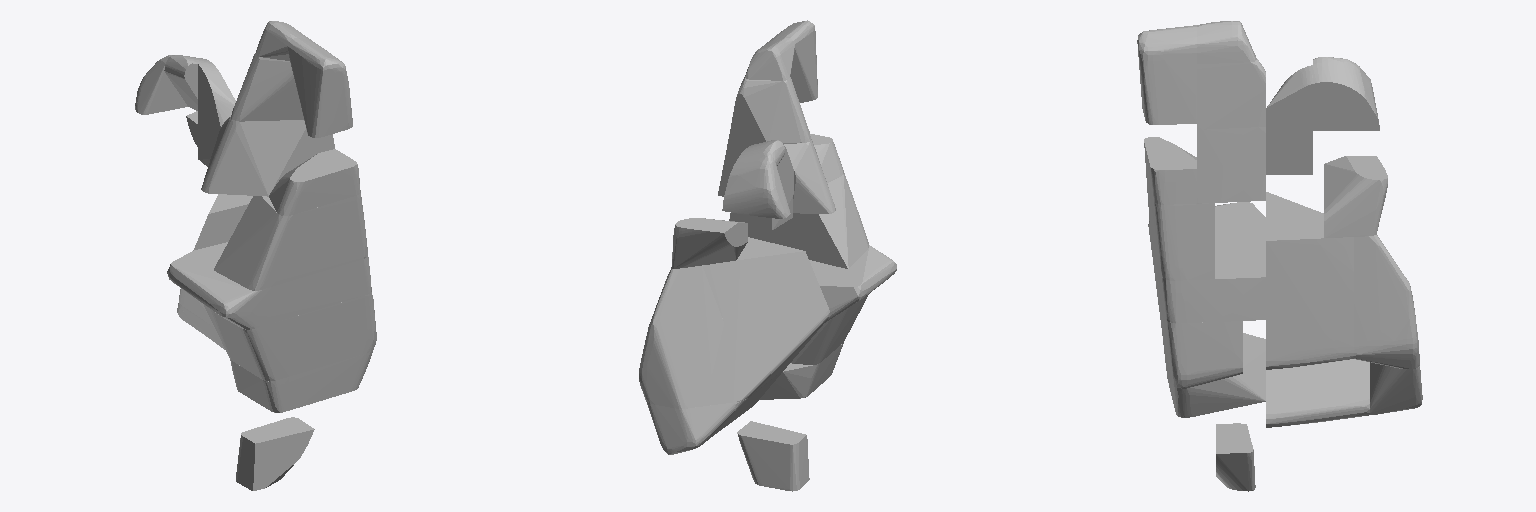
--- What the picture shows (computed from the rendered views, not written in the file) ---
3 views of the same robot in one strip: view 1: azimuth 30°, elevation 25°; view 2: azimuth 150°, elevation 25°; view 3: azimuth 270°, elevation 25° (orthographic).
Model root with 32 links and 31 joints (31 fixed), rooted at link_coacd_convex_piece_0, posed every joint at zero.
Visible links, largest first — view 1: link_coacd_convex_piece_21, link_coacd_convex_piece_31, link_coacd_convex_piece_18, link_coacd_convex_piece_11, link_coacd_convex_piece_17, link_coacd_convex_piece_15, link_coacd_convex_piece_27, link_coacd_convex_piece_8, link_coacd_convex_piece_28, link_coacd_convex_piece_22, link_coacd_convex_piece_4, link_coacd_convex_piece_23 (+2 smaller); view 2: link_coacd_convex_piece_4, link_coacd_convex_piece_16, link_coacd_convex_piece_21, link_coacd_convex_piece_28, link_coacd_convex_piece_8, link_coacd_convex_piece_23, link_coacd_convex_piece_10, link_coacd_convex_piece_11, link_coacd_convex_piece_18, link_coacd_convex_piece_2, link_coacd_convex_piece_17, link_coacd_convex_piece_15 (+7 smaller); view 3: link_coacd_convex_piece_19, link_coacd_convex_piece_18, link_coacd_convex_piece_16, link_coacd_convex_piece_3, link_coacd_convex_piece_17, link_coacd_convex_piece_11, link_coacd_convex_piece_31, link_coacd_convex_piece_21, link_coacd_convex_piece_10, link_coacd_convex_piece_28, link_coacd_convex_piece_22, link_coacd_convex_piece_15 (+7 smaller).
Link boxes in pixels (x1,y1,x2,y2): link_coacd_convex_piece_21: (214, 193, 367, 290); link_coacd_convex_piece_31: (204, 292, 376, 381); link_coacd_convex_piece_18: (167, 242, 371, 329); link_coacd_convex_piece_11: (201, 117, 334, 196); link_coacd_convex_piece_17: (288, 38, 352, 137); link_coacd_convex_piece_15: (230, 351, 372, 412); link_coacd_convex_piece_27: (269, 149, 360, 215); link_coacd_convex_piece_8: (236, 417, 314, 490); link_coacd_convex_piece_28: (231, 53, 303, 121); link_coacd_convex_piece_22: (198, 64, 235, 166); link_coacd_convex_piece_4: (179, 194, 248, 327); link_coacd_convex_piece_23: (135, 55, 187, 114); link_coacd_convex_piece_4: (705, 241, 829, 405); link_coacd_convex_piece_16: (639, 266, 723, 408); link_coacd_convex_piece_21: (729, 173, 868, 268); link_coacd_convex_piece_28: (729, 77, 810, 143); link_coacd_convex_piece_8: (737, 421, 809, 491); link_coacd_convex_piece_23: (722, 153, 790, 218); link_coacd_convex_piece_10: (672, 218, 747, 268); link_coacd_convex_piece_11: (718, 135, 835, 213); link_coacd_convex_piece_18: (809, 245, 896, 322); link_coacd_convex_piece_2: (646, 401, 736, 454); link_coacd_convex_piece_17: (771, 20, 817, 102); link_coacd_convex_piece_15: (759, 343, 843, 399); link_coacd_convex_piece_19: (1266, 213, 1353, 369); link_coacd_convex_piece_18: (1148, 202, 1265, 322); link_coacd_convex_piece_16: (1354, 235, 1419, 368); link_coacd_convex_piece_3: (1266, 359, 1369, 427); link_coacd_convex_piece_17: (1137, 25, 1196, 124); link_coacd_convex_piece_11: (1197, 127, 1265, 203); link_coacd_convex_piece_31: (1153, 263, 1242, 388); link_coacd_convex_piece_21: (1146, 170, 1214, 280); link_coacd_convex_piece_10: (1324, 156, 1387, 237); link_coacd_convex_piece_28: (1197, 59, 1265, 129); link_coacd_convex_piece_22: (1266, 65, 1312, 174); link_coacd_convex_piece_15: (1163, 333, 1265, 417).
Size in the robot's own frame: 0.0443 by 0.0613 by 0.1101 metres.
19 mesh visuals loaded from 32 distinct referenced files (19 OBJ); not drawn: 13 (reference not matched to a file when rendering).

The robot description file, URDF, robot "root":
<robot name="root">
  <link name="link_coacd_convex_piece_0">
    <inertial>
      <origin xyz="0 0 0" rpy="0 0 0"/>
      <inertia ixx="3.45E-09" ixy="1.41E-10" ixz="5.02E-10" iyy="3.01E-09" iyz="-1.37E-09" izz="6.80E-10"/>
    </inertial>
    <visual>
      <origin xyz="0 0 0" rpy="0 0 0"/>
      <geometry>
        <mesh filename="coacd_convex_piece_0.obj" scale="1.0000E+00 1.0000E+00 1.0000E+00"/>
      </geometry>
      <material name="">
        <color rgba="7.50E-01 7.50E-01 7.50E-01 1"/>
      </material>
    </visual>
    <collision>
      <origin xyz="0 0 0" rpy="0 0 0"/>
      <geometry>
        <mesh filename="coacd_convex_piece_0.obj" scale="1.0000E+00 1.0000E+00 1.0000E+00"/>
      </geometry>
    </collision>
  </link>
  <link name="link_coacd_convex_piece_1">
    <inertial>
      <origin xyz="0 0 0" rpy="0 0 0"/>
      <inertia ixx="3.96E-09" ixy="-2.89E-11" ixz="-1.76E-12" iyy="3.74E-09" iyz="-9.74E-10" izz="2.15E-10"/>
    </inertial>
    <visual>
      <origin xyz="0 0 0" rpy="0 0 0"/>
      <geometry>
        <mesh filename="coacd_convex_piece_1.obj" scale="1.0000E+00 1.0000E+00 1.0000E+00"/>
      </geometry>
      <material name="">
        <color rgba="7.50E-01 7.50E-01 7.50E-01 1"/>
      </material>
    </visual>
    <collision>
      <origin xyz="0 0 0" rpy="0 0 0"/>
      <geometry>
        <mesh filename="coacd_convex_piece_1.obj" scale="1.0000E+00 1.0000E+00 1.0000E+00"/>
      </geometry>
    </collision>
  </link>
  <joint name="link_coacd_convex_piece_1_joint" type="fixed">
    <origin xyz="0 0 0" rpy="0 0 0"/>
    <parent link="link_coacd_convex_piece_0"/>
    <child link="link_coacd_convex_piece_1"/>
  </joint>
  <link name="link_coacd_convex_piece_2">
    <inertial>
      <origin xyz="0 0 0" rpy="0 0 0"/>
      <inertia ixx="1.06E-09" ixy="-1.80E-10" ixz="1.53E-10" iyy="5.10E-10" iyz="5.18E-10" izz="6.34E-10"/>
    </inertial>
    <visual>
      <origin xyz="0 0 0" rpy="0 0 0"/>
      <geometry>
        <mesh filename="coacd_convex_piece_2.obj" scale="1.0000E+00 1.0000E+00 1.0000E+00"/>
      </geometry>
      <material name="">
        <color rgba="7.50E-01 7.50E-01 7.50E-01 1"/>
      </material>
    </visual>
    <collision>
      <origin xyz="0 0 0" rpy="0 0 0"/>
      <geometry>
        <mesh filename="coacd_convex_piece_2.obj" scale="1.0000E+00 1.0000E+00 1.0000E+00"/>
      </geometry>
    </collision>
  </link>
  <joint name="link_coacd_convex_piece_2_joint" type="fixed">
    <origin xyz="0 0 0" rpy="0 0 0"/>
    <parent link="link_coacd_convex_piece_1"/>
    <child link="link_coacd_convex_piece_2"/>
  </joint>
  <link name="link_coacd_convex_piece_3">
    <inertial>
      <origin xyz="0 0 0" rpy="0 0 0"/>
      <inertia ixx="9.92E-10" ixy="-8.40E-11" ixz="2.03E-10" iyy="9.07E-10" iyz="2.60E-10" izz="1.51E-10"/>
    </inertial>
    <visual>
      <origin xyz="0 0 0" rpy="0 0 0"/>
      <geometry>
        <mesh filename="coacd_convex_piece_3.obj" scale="1.0000E+00 1.0000E+00 1.0000E+00"/>
      </geometry>
      <material name="">
        <color rgba="7.50E-01 7.50E-01 7.50E-01 1"/>
      </material>
    </visual>
    <collision>
      <origin xyz="0 0 0" rpy="0 0 0"/>
      <geometry>
        <mesh filename="coacd_convex_piece_3.obj" scale="1.0000E+00 1.0000E+00 1.0000E+00"/>
      </geometry>
    </collision>
  </link>
  <joint name="link_coacd_convex_piece_3_joint" type="fixed">
    <origin xyz="0 0 0" rpy="0 0 0"/>
    <parent link="link_coacd_convex_piece_2"/>
    <child link="link_coacd_convex_piece_3"/>
  </joint>
  <link name="link_coacd_convex_piece_4">
    <inertial>
      <origin xyz="0 0 0" rpy="0 0 0"/>
      <inertia ixx="2.65E-10" ixy="-3.25E-11" ixz="2.15E-11" iyy="2.40E-10" iyz="2.22E-11" izz="1.27E-10"/>
    </inertial>
    <visual>
      <origin xyz="0 0 0" rpy="0 0 0"/>
      <geometry>
        <mesh filename="coacd_convex_piece_4.obj" scale="1.0000E+00 1.0000E+00 1.0000E+00"/>
      </geometry>
      <material name="">
        <color rgba="7.50E-01 7.50E-01 7.50E-01 1"/>
      </material>
    </visual>
    <collision>
      <origin xyz="0 0 0" rpy="0 0 0"/>
      <geometry>
        <mesh filename="coacd_convex_piece_4.obj" scale="1.0000E+00 1.0000E+00 1.0000E+00"/>
      </geometry>
    </collision>
  </link>
  <joint name="link_coacd_convex_piece_4_joint" type="fixed">
    <origin xyz="0 0 0" rpy="0 0 0"/>
    <parent link="link_coacd_convex_piece_3"/>
    <child link="link_coacd_convex_piece_4"/>
  </joint>
  <link name="link_coacd_convex_piece_5">
    <inertial>
      <origin xyz="0 0 0" rpy="0 0 0"/>
      <inertia ixx="1.75E-09" ixy="-1.05E-10" ixz="-1.47E-10" iyy="1.49E-09" iyz="-6.98E-10" izz="2.94E-10"/>
    </inertial>
    <visual>
      <origin xyz="0 0 0" rpy="0 0 0"/>
      <geometry>
        <mesh filename="coacd_convex_piece_5.obj" scale="1.0000E+00 1.0000E+00 1.0000E+00"/>
      </geometry>
      <material name="">
        <color rgba="7.50E-01 7.50E-01 7.50E-01 1"/>
      </material>
    </visual>
    <collision>
      <origin xyz="0 0 0" rpy="0 0 0"/>
      <geometry>
        <mesh filename="coacd_convex_piece_5.obj" scale="1.0000E+00 1.0000E+00 1.0000E+00"/>
      </geometry>
    </collision>
  </link>
  <joint name="link_coacd_convex_piece_5_joint" type="fixed">
    <origin xyz="0 0 0" rpy="0 0 0"/>
    <parent link="link_coacd_convex_piece_4"/>
    <child link="link_coacd_convex_piece_5"/>
  </joint>
  <link name="link_coacd_convex_piece_6">
    <inertial>
      <origin xyz="0 0 0" rpy="0 0 0"/>
      <inertia ixx="3.05E-10" ixy="3.23E-12" ixz="1.13E-10" iyy="3.47E-10" iyz="-3.71E-11" izz="2.68E-11"/>
    </inertial>
    <visual>
      <origin xyz="0 0 0" rpy="0 0 0"/>
      <geometry>
        <mesh filename="coacd_convex_piece_6.obj" scale="1.0000E+00 1.0000E+00 1.0000E+00"/>
      </geometry>
      <material name="">
        <color rgba="7.50E-01 7.50E-01 7.50E-01 1"/>
      </material>
    </visual>
    <collision>
      <origin xyz="0 0 0" rpy="0 0 0"/>
      <geometry>
        <mesh filename="coacd_convex_piece_6.obj" scale="1.0000E+00 1.0000E+00 1.0000E+00"/>
      </geometry>
    </collision>
  </link>
  <joint name="link_coacd_convex_piece_6_joint" type="fixed">
    <origin xyz="0 0 0" rpy="0 0 0"/>
    <parent link="link_coacd_convex_piece_5"/>
    <child link="link_coacd_convex_piece_6"/>
  </joint>
  <link name="link_coacd_convex_piece_7">
    <inertial>
      <origin xyz="0 0 0" rpy="0 0 0"/>
      <inertia ixx="2.00E-09" ixy="3.06E-11" ixz="1.30E-10" iyy="1.73E-09" iyz="-7.48E-10" izz="2.88E-10"/>
    </inertial>
    <visual>
      <origin xyz="0 0 0" rpy="0 0 0"/>
      <geometry>
        <mesh filename="coacd_convex_piece_7.obj" scale="1.0000E+00 1.0000E+00 1.0000E+00"/>
      </geometry>
      <material name="">
        <color rgba="7.50E-01 7.50E-01 7.50E-01 1"/>
      </material>
    </visual>
    <collision>
      <origin xyz="0 0 0" rpy="0 0 0"/>
      <geometry>
        <mesh filename="coacd_convex_piece_7.obj" scale="1.0000E+00 1.0000E+00 1.0000E+00"/>
      </geometry>
    </collision>
  </link>
  <joint name="link_coacd_convex_piece_7_joint" type="fixed">
    <origin xyz="0 0 0" rpy="0 0 0"/>
    <parent link="link_coacd_convex_piece_6"/>
    <child link="link_coacd_convex_piece_7"/>
  </joint>
  <link name="link_coacd_convex_piece_8">
    <inertial>
      <origin xyz="0 0 0" rpy="0 0 0"/>
      <inertia ixx="1.56E-09" ixy="-4.70E-13" ixz="8.44E-11" iyy="1.51E-09" iyz="-3.62E-10" izz="5.94E-11"/>
    </inertial>
    <visual>
      <origin xyz="0 0 0" rpy="0 0 0"/>
      <geometry>
        <mesh filename="coacd_convex_piece_8.obj" scale="1.0000E+00 1.0000E+00 1.0000E+00"/>
      </geometry>
      <material name="">
        <color rgba="7.50E-01 7.50E-01 7.50E-01 1"/>
      </material>
    </visual>
    <collision>
      <origin xyz="0 0 0" rpy="0 0 0"/>
      <geometry>
        <mesh filename="coacd_convex_piece_8.obj" scale="1.0000E+00 1.0000E+00 1.0000E+00"/>
      </geometry>
    </collision>
  </link>
  <joint name="link_coacd_convex_piece_8_joint" type="fixed">
    <origin xyz="0 0 0" rpy="0 0 0"/>
    <parent link="link_coacd_convex_piece_7"/>
    <child link="link_coacd_convex_piece_8"/>
  </joint>
  <link name="link_coacd_convex_piece_9">
    <inertial>
      <origin xyz="0 0 0" rpy="0 0 0"/>
      <inertia ixx="7.40E-11" ixy="-4.35E-12" ixz="2.18E-11" iyy="8.21E-11" iyz="-1.08E-11" izz="-4.76E-12"/>
    </inertial>
    <visual>
      <origin xyz="0 0 0" rpy="0 0 0"/>
      <geometry>
        <mesh filename="coacd_convex_piece_9.obj" scale="1.0000E+00 1.0000E+00 1.0000E+00"/>
      </geometry>
      <material name="">
        <color rgba="7.50E-01 7.50E-01 7.50E-01 1"/>
      </material>
    </visual>
    <collision>
      <origin xyz="0 0 0" rpy="0 0 0"/>
      <geometry>
        <mesh filename="coacd_convex_piece_9.obj" scale="1.0000E+00 1.0000E+00 1.0000E+00"/>
      </geometry>
    </collision>
  </link>
  <joint name="link_coacd_convex_piece_9_joint" type="fixed">
    <origin xyz="0 0 0" rpy="0 0 0"/>
    <parent link="link_coacd_convex_piece_8"/>
    <child link="link_coacd_convex_piece_9"/>
  </joint>
  <link name="link_coacd_convex_piece_10">
    <inertial>
      <origin xyz="0 0 0" rpy="0 0 0"/>
      <inertia ixx="7.07E-10" ixy="-1.29E-10" ixz="-1.20E-10" iyy="5.18E-10" iyz="-3.84E-10" izz="2.78E-10"/>
    </inertial>
    <visual>
      <origin xyz="0 0 0" rpy="0 0 0"/>
      <geometry>
        <mesh filename="coacd_convex_piece_10.obj" scale="1.0000E+00 1.0000E+00 1.0000E+00"/>
      </geometry>
      <material name="">
        <color rgba="7.50E-01 7.50E-01 7.50E-01 1"/>
      </material>
    </visual>
    <collision>
      <origin xyz="0 0 0" rpy="0 0 0"/>
      <geometry>
        <mesh filename="coacd_convex_piece_10.obj" scale="1.0000E+00 1.0000E+00 1.0000E+00"/>
      </geometry>
    </collision>
  </link>
  <joint name="link_coacd_convex_piece_10_joint" type="fixed">
    <origin xyz="0 0 0" rpy="0 0 0"/>
    <parent link="link_coacd_convex_piece_9"/>
    <child link="link_coacd_convex_piece_10"/>
  </joint>
  <link name="link_coacd_convex_piece_11">
    <inertial>
      <origin xyz="0 0 0" rpy="0 0 0"/>
      <inertia ixx="3.71E-09" ixy="4.00E-11" ixz="-2.49E-10" iyy="3.55E-09" iyz="1.00E-09" izz="4.18E-10"/>
    </inertial>
    <visual>
      <origin xyz="0 0 0" rpy="0 0 0"/>
      <geometry>
        <mesh filename="coacd_convex_piece_11.obj" scale="1.0000E+00 1.0000E+00 1.0000E+00"/>
      </geometry>
      <material name="">
        <color rgba="7.50E-01 7.50E-01 7.50E-01 1"/>
      </material>
    </visual>
    <collision>
      <origin xyz="0 0 0" rpy="0 0 0"/>
      <geometry>
        <mesh filename="coacd_convex_piece_11.obj" scale="1.0000E+00 1.0000E+00 1.0000E+00"/>
      </geometry>
    </collision>
  </link>
  <joint name="link_coacd_convex_piece_11_joint" type="fixed">
    <origin xyz="0 0 0" rpy="0 0 0"/>
    <parent link="link_coacd_convex_piece_10"/>
    <child link="link_coacd_convex_piece_11"/>
  </joint>
  <link name="link_coacd_convex_piece_12">
    <inertial>
      <origin xyz="0 0 0" rpy="0 0 0"/>
      <inertia ixx="2.19E-09" ixy="-6.58E-11" ixz="-3.53E-10" iyy="2.35E-09" iyz="-1.37E-10" izz="1.88E-11"/>
    </inertial>
    <visual>
      <origin xyz="0 0 0" rpy="0 0 0"/>
      <geometry>
        <mesh filename="coacd_convex_piece_12.obj" scale="1.0000E+00 1.0000E+00 1.0000E+00"/>
      </geometry>
      <material name="">
        <color rgba="7.50E-01 7.50E-01 7.50E-01 1"/>
      </material>
    </visual>
    <collision>
      <origin xyz="0 0 0" rpy="0 0 0"/>
      <geometry>
        <mesh filename="coacd_convex_piece_12.obj" scale="1.0000E+00 1.0000E+00 1.0000E+00"/>
      </geometry>
    </collision>
  </link>
  <joint name="link_coacd_convex_piece_12_joint" type="fixed">
    <origin xyz="0 0 0" rpy="0 0 0"/>
    <parent link="link_coacd_convex_piece_11"/>
    <child link="link_coacd_convex_piece_12"/>
  </joint>
  <link name="link_coacd_convex_piece_13">
    <inertial>
      <origin xyz="0 0 0" rpy="0 0 0"/>
      <inertia ixx="9.84E-10" ixy="-6.90E-11" ixz="-1.42E-10" iyy="9.94E-10" iyz="-2.70E-10" izz="6.12E-11"/>
    </inertial>
    <visual>
      <origin xyz="0 0 0" rpy="0 0 0"/>
      <geometry>
        <mesh filename="coacd_convex_piece_13.obj" scale="1.0000E+00 1.0000E+00 1.0000E+00"/>
      </geometry>
      <material name="">
        <color rgba="7.50E-01 7.50E-01 7.50E-01 1"/>
      </material>
    </visual>
    <collision>
      <origin xyz="0 0 0" rpy="0 0 0"/>
      <geometry>
        <mesh filename="coacd_convex_piece_13.obj" scale="1.0000E+00 1.0000E+00 1.0000E+00"/>
      </geometry>
    </collision>
  </link>
  <joint name="link_coacd_convex_piece_13_joint" type="fixed">
    <origin xyz="0 0 0" rpy="0 0 0"/>
    <parent link="link_coacd_convex_piece_12"/>
    <child link="link_coacd_convex_piece_13"/>
  </joint>
  <link name="link_coacd_convex_piece_14">
    <inertial>
      <origin xyz="0 0 0" rpy="0 0 0"/>
      <inertia ixx="1.06E-09" ixy="8.48E-11" ixz="2.63E-10" iyy="9.65E-10" iyz="-4.42E-10" izz="2.31E-10"/>
    </inertial>
    <visual>
      <origin xyz="0 0 0" rpy="0 0 0"/>
      <geometry>
        <mesh filename="coacd_convex_piece_14.obj" scale="1.0000E+00 1.0000E+00 1.0000E+00"/>
      </geometry>
      <material name="">
        <color rgba="7.50E-01 7.50E-01 7.50E-01 1"/>
      </material>
    </visual>
    <collision>
      <origin xyz="0 0 0" rpy="0 0 0"/>
      <geometry>
        <mesh filename="coacd_convex_piece_14.obj" scale="1.0000E+00 1.0000E+00 1.0000E+00"/>
      </geometry>
    </collision>
  </link>
  <joint name="link_coacd_convex_piece_14_joint" type="fixed">
    <origin xyz="0 0 0" rpy="0 0 0"/>
    <parent link="link_coacd_convex_piece_13"/>
    <child link="link_coacd_convex_piece_14"/>
  </joint>
  <link name="link_coacd_convex_piece_15">
    <inertial>
      <origin xyz="0 0 0" rpy="0 0 0"/>
      <inertia ixx="1.90E-09" ixy="1.51E-10" ixz="3.34E-10" iyy="1.45E-09" iyz="-9.77E-10" izz="7.69E-10"/>
    </inertial>
    <visual>
      <origin xyz="0 0 0" rpy="0 0 0"/>
      <geometry>
        <mesh filename="coacd_convex_piece_15.obj" scale="1.0000E+00 1.0000E+00 1.0000E+00"/>
      </geometry>
      <material name="">
        <color rgba="7.50E-01 7.50E-01 7.50E-01 1"/>
      </material>
    </visual>
    <collision>
      <origin xyz="0 0 0" rpy="0 0 0"/>
      <geometry>
        <mesh filename="coacd_convex_piece_15.obj" scale="1.0000E+00 1.0000E+00 1.0000E+00"/>
      </geometry>
    </collision>
  </link>
  <joint name="link_coacd_convex_piece_15_joint" type="fixed">
    <origin xyz="0 0 0" rpy="0 0 0"/>
    <parent link="link_coacd_convex_piece_14"/>
    <child link="link_coacd_convex_piece_15"/>
  </joint>
  <link name="link_coacd_convex_piece_16">
    <inertial>
      <origin xyz="0 0 0" rpy="0 0 0"/>
      <inertia ixx="1.30E-09" ixy="-6.31E-10" ixz="1.54E-10" iyy="4.25E-10" iyz="2.18E-10" izz="1.43E-09"/>
    </inertial>
    <visual>
      <origin xyz="0 0 0" rpy="0 0 0"/>
      <geometry>
        <mesh filename="coacd_convex_piece_16.obj" scale="1.0000E+00 1.0000E+00 1.0000E+00"/>
      </geometry>
      <material name="">
        <color rgba="7.50E-01 7.50E-01 7.50E-01 1"/>
      </material>
    </visual>
    <collision>
      <origin xyz="0 0 0" rpy="0 0 0"/>
      <geometry>
        <mesh filename="coacd_convex_piece_16.obj" scale="1.0000E+00 1.0000E+00 1.0000E+00"/>
      </geometry>
    </collision>
  </link>
  <joint name="link_coacd_convex_piece_16_joint" type="fixed">
    <origin xyz="0 0 0" rpy="0 0 0"/>
    <parent link="link_coacd_convex_piece_15"/>
    <child link="link_coacd_convex_piece_16"/>
  </joint>
  <link name="link_coacd_convex_piece_17">
    <inertial>
      <origin xyz="0 0 0" rpy="0 0 0"/>
      <inertia ixx="3.97E-09" ixy="1.83E-10" ixz="-4.11E-10" iyy="3.29E-09" iyz="1.53E-09" izz="7.79E-10"/>
    </inertial>
    <visual>
      <origin xyz="0 0 0" rpy="0 0 0"/>
      <geometry>
        <mesh filename="coacd_convex_piece_17.obj" scale="1.0000E+00 1.0000E+00 1.0000E+00"/>
      </geometry>
      <material name="">
        <color rgba="7.50E-01 7.50E-01 7.50E-01 1"/>
      </material>
    </visual>
    <collision>
      <origin xyz="0 0 0" rpy="0 0 0"/>
      <geometry>
        <mesh filename="coacd_convex_piece_17.obj" scale="1.0000E+00 1.0000E+00 1.0000E+00"/>
      </geometry>
    </collision>
  </link>
  <joint name="link_coacd_convex_piece_17_joint" type="fixed">
    <origin xyz="0 0 0" rpy="0 0 0"/>
    <parent link="link_coacd_convex_piece_16"/>
    <child link="link_coacd_convex_piece_17"/>
  </joint>
  <link name="link_coacd_convex_piece_18">
    <inertial>
      <origin xyz="0 0 0" rpy="0 0 0"/>
      <inertia ixx="1.39E-09" ixy="-1.94E-10" ixz="1.16E-10" iyy="6.22E-10" iyz="5.63E-11" izz="2.09E-09"/>
    </inertial>
    <visual>
      <origin xyz="0 0 0" rpy="0 0 0"/>
      <geometry>
        <mesh filename="coacd_convex_piece_18.obj" scale="1.0000E+00 1.0000E+00 1.0000E+00"/>
      </geometry>
      <material name="">
        <color rgba="7.50E-01 7.50E-01 7.50E-01 1"/>
      </material>
    </visual>
    <collision>
      <origin xyz="0 0 0" rpy="0 0 0"/>
      <geometry>
        <mesh filename="coacd_convex_piece_18.obj" scale="1.0000E+00 1.0000E+00 1.0000E+00"/>
      </geometry>
    </collision>
  </link>
  <joint name="link_coacd_convex_piece_18_joint" type="fixed">
    <origin xyz="0 0 0" rpy="0 0 0"/>
    <parent link="link_coacd_convex_piece_17"/>
    <child link="link_coacd_convex_piece_18"/>
  </joint>
  <link name="link_coacd_convex_piece_19">
    <inertial>
      <origin xyz="0 0 0" rpy="0 0 0"/>
      <inertia ixx="4.60E-10" ixy="-4.69E-10" ixz="1.28E-10" iyy="8.67E-10" iyz="-1.57E-10" izz="7.96E-10"/>
    </inertial>
    <visual>
      <origin xyz="0 0 0" rpy="0 0 0"/>
      <geometry>
        <mesh filename="coacd_convex_piece_19.obj" scale="1.0000E+00 1.0000E+00 1.0000E+00"/>
      </geometry>
      <material name="">
        <color rgba="7.50E-01 7.50E-01 7.50E-01 1"/>
      </material>
    </visual>
    <collision>
      <origin xyz="0 0 0" rpy="0 0 0"/>
      <geometry>
        <mesh filename="coacd_convex_piece_19.obj" scale="1.0000E+00 1.0000E+00 1.0000E+00"/>
      </geometry>
    </collision>
  </link>
  <joint name="link_coacd_convex_piece_19_joint" type="fixed">
    <origin xyz="0 0 0" rpy="0 0 0"/>
    <parent link="link_coacd_convex_piece_18"/>
    <child link="link_coacd_convex_piece_19"/>
  </joint>
  <link name="link_coacd_convex_piece_20">
    <inertial>
      <origin xyz="0 0 0" rpy="0 0 0"/>
      <inertia ixx="1.61E-09" ixy="1.36E-10" ixz="-2.20E-10" iyy="1.17E-09" iyz="7.38E-10" izz="5.40E-10"/>
    </inertial>
    <visual>
      <origin xyz="0 0 0" rpy="0 0 0"/>
      <geometry>
        <mesh filename="coacd_convex_piece_20.obj" scale="1.0000E+00 1.0000E+00 1.0000E+00"/>
      </geometry>
      <material name="">
        <color rgba="7.50E-01 7.50E-01 7.50E-01 1"/>
      </material>
    </visual>
    <collision>
      <origin xyz="0 0 0" rpy="0 0 0"/>
      <geometry>
        <mesh filename="coacd_convex_piece_20.obj" scale="1.0000E+00 1.0000E+00 1.0000E+00"/>
      </geometry>
    </collision>
  </link>
  <joint name="link_coacd_convex_piece_20_joint" type="fixed">
    <origin xyz="0 0 0" rpy="0 0 0"/>
    <parent link="link_coacd_convex_piece_19"/>
    <child link="link_coacd_convex_piece_20"/>
  </joint>
  <link name="link_coacd_convex_piece_21">
    <inertial>
      <origin xyz="0 0 0" rpy="0 0 0"/>
      <inertia ixx="2.78E-09" ixy="1.88E-10" ixz="-1.58E-10" iyy="1.24E-09" iyz="1.24E-09" izz="2.06E-09"/>
    </inertial>
    <visual>
      <origin xyz="0 0 0" rpy="0 0 0"/>
      <geometry>
        <mesh filename="coacd_convex_piece_21.obj" scale="1.0000E+00 1.0000E+00 1.0000E+00"/>
      </geometry>
      <material name="">
        <color rgba="7.50E-01 7.50E-01 7.50E-01 1"/>
      </material>
    </visual>
    <collision>
      <origin xyz="0 0 0" rpy="0 0 0"/>
      <geometry>
        <mesh filename="coacd_convex_piece_21.obj" scale="1.0000E+00 1.0000E+00 1.0000E+00"/>
      </geometry>
    </collision>
  </link>
  <joint name="link_coacd_convex_piece_21_joint" type="fixed">
    <origin xyz="0 0 0" rpy="0 0 0"/>
    <parent link="link_coacd_convex_piece_20"/>
    <child link="link_coacd_convex_piece_21"/>
  </joint>
  <link name="link_coacd_convex_piece_22">
    <inertial>
      <origin xyz="0 0 0" rpy="0 0 0"/>
      <inertia ixx="7.37E-10" ixy="-7.84E-12" ixz="1.02E-10" iyy="7.55E-10" iyz="-7.34E-11" izz="-1.07E-11"/>
    </inertial>
    <visual>
      <origin xyz="0 0 0" rpy="0 0 0"/>
      <geometry>
        <mesh filename="coacd_convex_piece_22.obj" scale="1.0000E+00 1.0000E+00 1.0000E+00"/>
      </geometry>
      <material name="">
        <color rgba="7.50E-01 7.50E-01 7.50E-01 1"/>
      </material>
    </visual>
    <collision>
      <origin xyz="0 0 0" rpy="0 0 0"/>
      <geometry>
        <mesh filename="coacd_convex_piece_22.obj" scale="1.0000E+00 1.0000E+00 1.0000E+00"/>
      </geometry>
    </collision>
  </link>
  <joint name="link_coacd_convex_piece_22_joint" type="fixed">
    <origin xyz="0 0 0" rpy="0 0 0"/>
    <parent link="link_coacd_convex_piece_21"/>
    <child link="link_coacd_convex_piece_22"/>
  </joint>
  <link name="link_coacd_convex_piece_23">
    <inertial>
      <origin xyz="0 0 0" rpy="0 0 0"/>
      <inertia ixx="9.92E-10" ixy="6.45E-11" ixz="1.83E-10" iyy="8.80E-10" iyz="-3.89E-10" izz="1.83E-10"/>
    </inertial>
    <visual>
      <origin xyz="0 0 0" rpy="0 0 0"/>
      <geometry>
        <mesh filename="coacd_convex_piece_23.obj" scale="1.0000E+00 1.0000E+00 1.0000E+00"/>
      </geometry>
      <material name="">
        <color rgba="7.50E-01 7.50E-01 7.50E-01 1"/>
      </material>
    </visual>
    <collision>
      <origin xyz="0 0 0" rpy="0 0 0"/>
      <geometry>
        <mesh filename="coacd_convex_piece_23.obj" scale="1.0000E+00 1.0000E+00 1.0000E+00"/>
      </geometry>
    </collision>
  </link>
  <joint name="link_coacd_convex_piece_23_joint" type="fixed">
    <origin xyz="0 0 0" rpy="0 0 0"/>
    <parent link="link_coacd_convex_piece_22"/>
    <child link="link_coacd_convex_piece_23"/>
  </joint>
  <link name="link_coacd_convex_piece_24">
    <inertial>
      <origin xyz="0 0 0" rpy="0 0 0"/>
      <inertia ixx="1.20E-10" ixy="8.28E-12" ixz="9.57E-11" iyy="2.51E-10" iyz="-1.15E-10" izz="1.24E-10"/>
    </inertial>
    <visual>
      <origin xyz="0 0 0" rpy="0 0 0"/>
      <geometry>
        <mesh filename="coacd_convex_piece_24.obj" scale="1.0000E+00 1.0000E+00 1.0000E+00"/>
      </geometry>
      <material name="">
        <color rgba="7.50E-01 7.50E-01 7.50E-01 1"/>
      </material>
    </visual>
    <collision>
      <origin xyz="0 0 0" rpy="0 0 0"/>
      <geometry>
        <mesh filename="coacd_convex_piece_24.obj" scale="1.0000E+00 1.0000E+00 1.0000E+00"/>
      </geometry>
    </collision>
  </link>
  <joint name="link_coacd_convex_piece_24_joint" type="fixed">
    <origin xyz="0 0 0" rpy="0 0 0"/>
    <parent link="link_coacd_convex_piece_23"/>
    <child link="link_coacd_convex_piece_24"/>
  </joint>
  <link name="link_coacd_convex_piece_25">
    <inertial>
      <origin xyz="0 0 0" rpy="0 0 0"/>
      <inertia ixx="7.06E-10" ixy="1.42E-11" ixz="9.63E-11" iyy="6.83E-10" iyz="-1.83E-10" izz="4.02E-11"/>
    </inertial>
    <visual>
      <origin xyz="0 0 0" rpy="0 0 0"/>
      <geometry>
        <mesh filename="coacd_convex_piece_25.obj" scale="1.0000E+00 1.0000E+00 1.0000E+00"/>
      </geometry>
      <material name="">
        <color rgba="7.50E-01 7.50E-01 7.50E-01 1"/>
      </material>
    </visual>
    <collision>
      <origin xyz="0 0 0" rpy="0 0 0"/>
      <geometry>
        <mesh filename="coacd_convex_piece_25.obj" scale="1.0000E+00 1.0000E+00 1.0000E+00"/>
      </geometry>
    </collision>
  </link>
  <joint name="link_coacd_convex_piece_25_joint" type="fixed">
    <origin xyz="0 0 0" rpy="0 0 0"/>
    <parent link="link_coacd_convex_piece_24"/>
    <child link="link_coacd_convex_piece_25"/>
  </joint>
  <link name="link_coacd_convex_piece_26">
    <inertial>
      <origin xyz="0 0 0" rpy="0 0 0"/>
      <inertia ixx="1.23E-09" ixy="1.34E-11" ixz="-9.06E-11" iyy="1.19E-09" iyz="2.48E-10" izz="5.13E-11"/>
    </inertial>
    <visual>
      <origin xyz="0 0 0" rpy="0 0 0"/>
      <geometry>
        <mesh filename="coacd_convex_piece_26.obj" scale="1.0000E+00 1.0000E+00 1.0000E+00"/>
      </geometry>
      <material name="">
        <color rgba="7.50E-01 7.50E-01 7.50E-01 1"/>
      </material>
    </visual>
    <collision>
      <origin xyz="0 0 0" rpy="0 0 0"/>
      <geometry>
        <mesh filename="coacd_convex_piece_26.obj" scale="1.0000E+00 1.0000E+00 1.0000E+00"/>
      </geometry>
    </collision>
  </link>
  <joint name="link_coacd_convex_piece_26_joint" type="fixed">
    <origin xyz="0 0 0" rpy="0 0 0"/>
    <parent link="link_coacd_convex_piece_25"/>
    <child link="link_coacd_convex_piece_26"/>
  </joint>
  <link name="link_coacd_convex_piece_27">
    <inertial>
      <origin xyz="0 0 0" rpy="0 0 0"/>
      <inertia ixx="1.24E-09" ixy="1.12E-10" ixz="-1.44E-10" iyy="7.70E-10" iyz="6.09E-10" izz="5.71E-10"/>
    </inertial>
    <visual>
      <origin xyz="0 0 0" rpy="0 0 0"/>
      <geometry>
        <mesh filename="coacd_convex_piece_27.obj" scale="1.0000E+00 1.0000E+00 1.0000E+00"/>
      </geometry>
      <material name="">
        <color rgba="7.50E-01 7.50E-01 7.50E-01 1"/>
      </material>
    </visual>
    <collision>
      <origin xyz="0 0 0" rpy="0 0 0"/>
      <geometry>
        <mesh filename="coacd_convex_piece_27.obj" scale="1.0000E+00 1.0000E+00 1.0000E+00"/>
      </geometry>
    </collision>
  </link>
  <joint name="link_coacd_convex_piece_27_joint" type="fixed">
    <origin xyz="0 0 0" rpy="0 0 0"/>
    <parent link="link_coacd_convex_piece_26"/>
    <child link="link_coacd_convex_piece_27"/>
  </joint>
  <link name="link_coacd_convex_piece_28">
    <inertial>
      <origin xyz="0 0 0" rpy="0 0 0"/>
      <inertia ixx="3.69E-09" ixy="4.52E-11" ixz="-3.14E-10" iyy="3.58E-09" iyz="7.60E-10" izz="1.83E-10"/>
    </inertial>
    <visual>
      <origin xyz="0 0 0" rpy="0 0 0"/>
      <geometry>
        <mesh filename="coacd_convex_piece_28.obj" scale="1.0000E+00 1.0000E+00 1.0000E+00"/>
      </geometry>
      <material name="">
        <color rgba="7.50E-01 7.50E-01 7.50E-01 1"/>
      </material>
    </visual>
    <collision>
      <origin xyz="0 0 0" rpy="0 0 0"/>
      <geometry>
        <mesh filename="coacd_convex_piece_28.obj" scale="1.0000E+00 1.0000E+00 1.0000E+00"/>
      </geometry>
    </collision>
  </link>
  <joint name="link_coacd_convex_piece_28_joint" type="fixed">
    <origin xyz="0 0 0" rpy="0 0 0"/>
    <parent link="link_coacd_convex_piece_27"/>
    <child link="link_coacd_convex_piece_28"/>
  </joint>
  <link name="link_coacd_convex_piece_29">
    <inertial>
      <origin xyz="0 0 0" rpy="0 0 0"/>
      <inertia ixx="1.12E-09" ixy="-7.21E-11" ixz="2.85E-11" iyy="1.23E-09" iyz="4.15E-10" izz="5.03E-10"/>
    </inertial>
    <visual>
      <origin xyz="0 0 0" rpy="0 0 0"/>
      <geometry>
        <mesh filename="coacd_convex_piece_29.obj" scale="1.0000E+00 1.0000E+00 1.0000E+00"/>
      </geometry>
      <material name="">
        <color rgba="7.50E-01 7.50E-01 7.50E-01 1"/>
      </material>
    </visual>
    <collision>
      <origin xyz="0 0 0" rpy="0 0 0"/>
      <geometry>
        <mesh filename="coacd_convex_piece_29.obj" scale="1.0000E+00 1.0000E+00 1.0000E+00"/>
      </geometry>
    </collision>
  </link>
  <joint name="link_coacd_convex_piece_29_joint" type="fixed">
    <origin xyz="0 0 0" rpy="0 0 0"/>
    <parent link="link_coacd_convex_piece_28"/>
    <child link="link_coacd_convex_piece_29"/>
  </joint>
  <link name="link_coacd_convex_piece_30">
    <inertial>
      <origin xyz="0 0 0" rpy="0 0 0"/>
      <inertia ixx="3.50E-10" ixy="-1.85E-13" ixz="8.33E-11" iyy="3.71E-10" iyz="-2.79E-11" izz="1.01E-11"/>
    </inertial>
    <visual>
      <origin xyz="0 0 0" rpy="0 0 0"/>
      <geometry>
        <mesh filename="coacd_convex_piece_30.obj" scale="1.0000E+00 1.0000E+00 1.0000E+00"/>
      </geometry>
      <material name="">
        <color rgba="7.50E-01 7.50E-01 7.50E-01 1"/>
      </material>
    </visual>
    <collision>
      <origin xyz="0 0 0" rpy="0 0 0"/>
      <geometry>
        <mesh filename="coacd_convex_piece_30.obj" scale="1.0000E+00 1.0000E+00 1.0000E+00"/>
      </geometry>
    </collision>
  </link>
  <joint name="link_coacd_convex_piece_30_joint" type="fixed">
    <origin xyz="0 0 0" rpy="0 0 0"/>
    <parent link="link_coacd_convex_piece_29"/>
    <child link="link_coacd_convex_piece_30"/>
  </joint>
  <link name="link_coacd_convex_piece_31">
    <inertial>
      <origin xyz="0 0 0" rpy="0 0 0"/>
      <inertia ixx="2.16E-09" ixy="2.70E-10" ixz="3.61E-10" iyy="1.11E-09" iyz="-1.11E-09" izz="2.17E-09"/>
    </inertial>
    <visual>
      <origin xyz="0 0 0" rpy="0 0 0"/>
      <geometry>
        <mesh filename="coacd_convex_piece_31.obj" scale="1.0000E+00 1.0000E+00 1.0000E+00"/>
      </geometry>
      <material name="">
        <color rgba="7.50E-01 7.50E-01 7.50E-01 1"/>
      </material>
    </visual>
    <collision>
      <origin xyz="0 0 0" rpy="0 0 0"/>
      <geometry>
        <mesh filename="coacd_convex_piece_31.obj" scale="1.0000E+00 1.0000E+00 1.0000E+00"/>
      </geometry>
    </collision>
  </link>
  <joint name="link_coacd_convex_piece_31_joint" type="fixed">
    <origin xyz="0 0 0" rpy="0 0 0"/>
    <parent link="link_coacd_convex_piece_30"/>
    <child link="link_coacd_convex_piece_31"/>
  </joint>
</robot>
